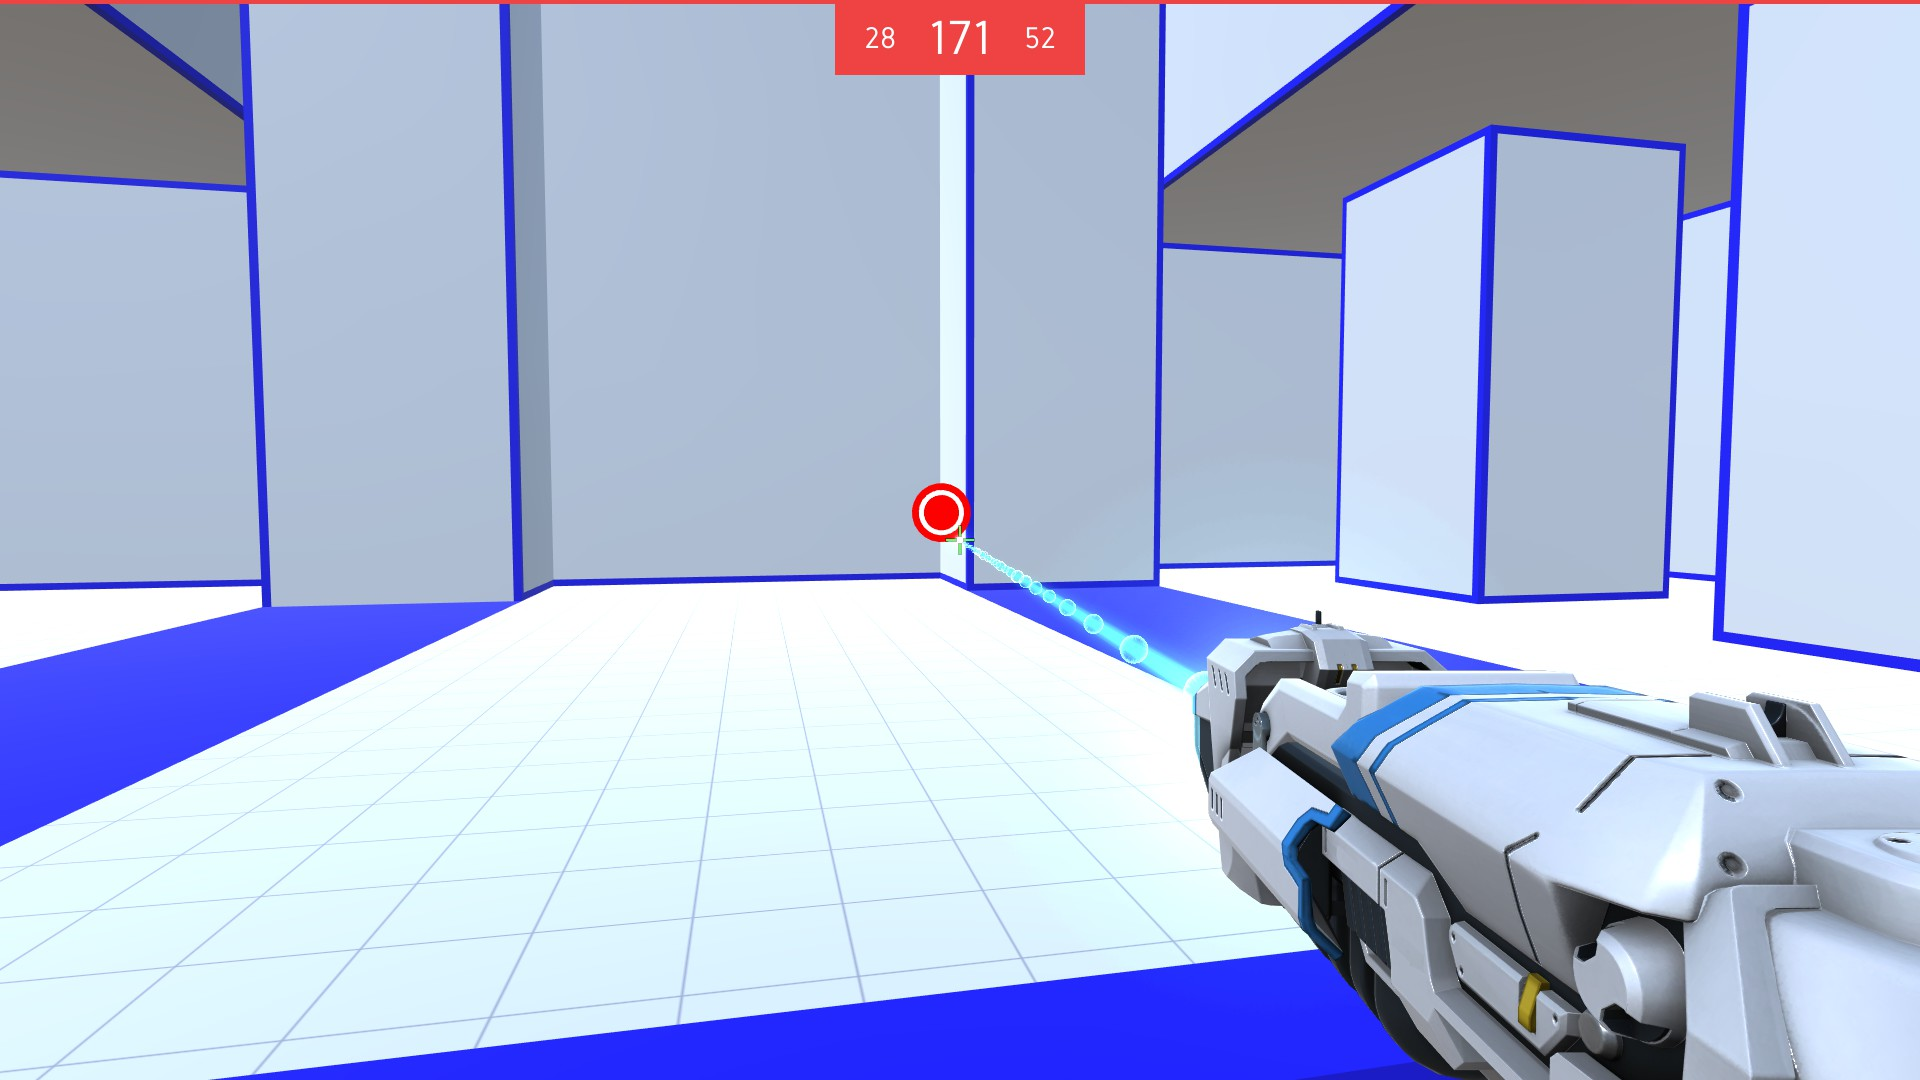target: (913, 483, 975, 545)
